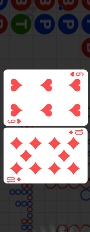10D: (68, 128, 85, 135)
5H: (69, 71, 85, 77)
